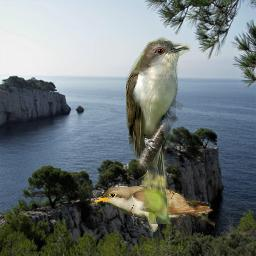Cuckoo: (126, 34, 190, 224), (91, 184, 215, 243)
